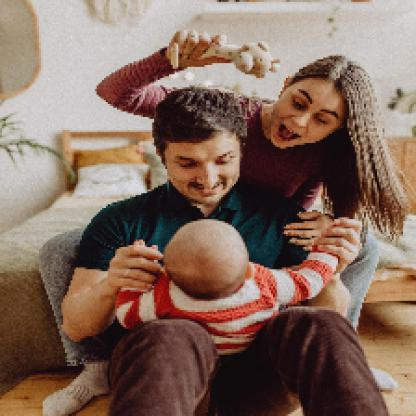child: (114, 218, 341, 353)
